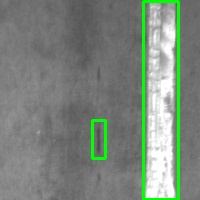inclusion: (92, 120, 105, 158)
scratches: (143, 1, 178, 199)
